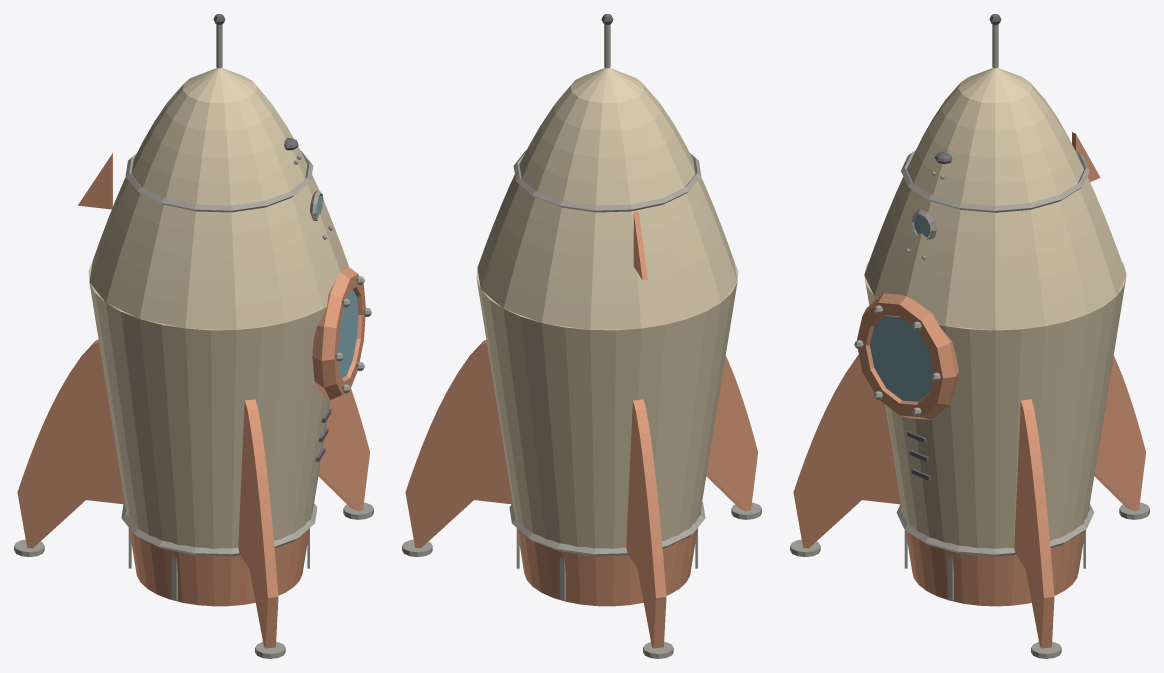
The picture shows the model from 3 angles, left to right: view 1: azimuth 30°, elevation 25°; view 2: azimuth 150°, elevation 25°; view 3: azimuth 270°, elevation 25°; orthographic projection.
Parts seen in each view (by area): view 1: Rocket_Nose, Rocket_Body, Rocket_Fin_3, Rocket_Nozzle, Rocket_Fin_2, Rocket_Fin_1, Rocket_PortholeRing, Rocket_NoseBand, Rocket_NozzleCollar, Rocket_PortholeGlass, Rocket_NoseFin; view 2: Rocket_Nose, Rocket_Body, Rocket_Fin_1, Rocket_Nozzle, Rocket_Fin_3, Rocket_Fin_2, Rocket_NoseBand, Rocket_NozzleCollar, Rocket_NoseFin; view 3: Rocket_Nose, Rocket_Body, Rocket_Fin_2, Rocket_Nozzle, Rocket_Fin_1, Rocket_PortholeRing, Rocket_Fin_3, Rocket_PortholeGlass, Rocket_NoseBand, Rocket_NozzleCollar.
Part boxes in pixels (<box>): Rocket_Nose: <box>89,68,348,329</box>; Rocket_Body: <box>88,261,330,548</box>; Rocket_Fin_3: <box>17,339,124,548</box>; Rocket_Nozzle: <box>129,528,309,606</box>; Rocket_Fin_2: <box>238,399,278,648</box>; Rocket_Fin_1: <box>318,388,369,511</box>; Rocket_PortholeRing: <box>312,266,365,399</box>; Rocket_NoseBand: <box>125,150,313,212</box>; Rocket_NozzleCollar: <box>121,503,317,556</box>; Rocket_PortholeGlass: <box>338,289,358,378</box>; Rocket_NoseFin: <box>78,153,112,209</box>; Rocket_Nose: <box>477,68,737,329</box>; Rocket_Body: <box>476,262,738,548</box>; Rocket_Fin_1: <box>405,340,512,548</box>; Rocket_Nozzle: <box>517,528,697,606</box>; Rocket_Fin_3: <box>626,399,666,648</box>; Rocket_Fin_2: <box>706,356,757,511</box>; Rocket_NoseBand: <box>513,150,701,212</box>; Rocket_NozzleCollar: <box>509,501,705,556</box>; Rocket_NoseFin: <box>633,211,647,280</box>; Rocket_Nose: <box>864,68,1126,330</box>; Rocket_Body: <box>864,261,1126,548</box>; Rocket_Fin_2: <box>793,355,900,548</box>; Rocket_Nozzle: <box>905,530,1085,606</box>; Rocket_Fin_1: <box>1014,399,1054,648</box>; Rocket_PortholeRing: <box>857,293,958,419</box>; Rocket_Fin_3: <box>1094,356,1145,511</box>; Rocket_PortholeGlass: <box>870,316,933,401</box>; Rocket_NoseBand: <box>901,150,1089,212</box>; Rocket_NozzleCollar: <box>896,504,1094,556</box>.
Bounding box in the file's own units: 3.29 × 5.63 × 3.29.
